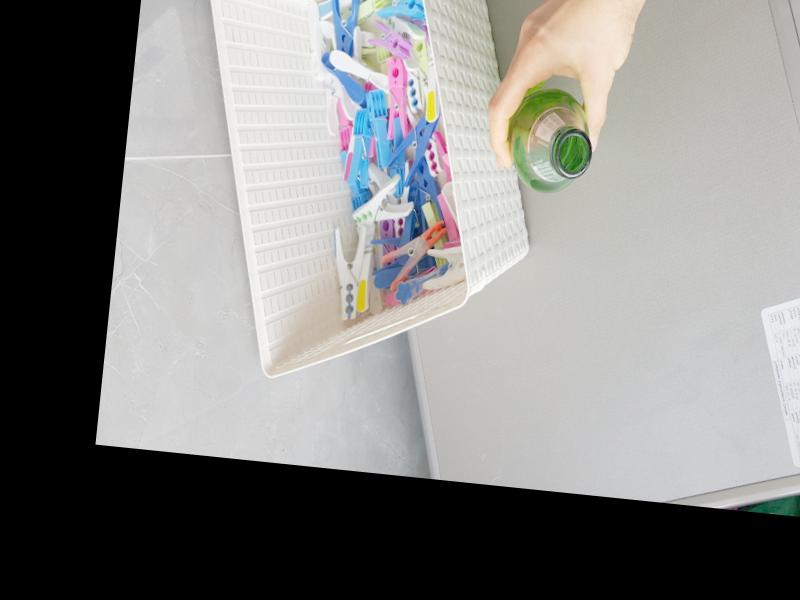Beer: (502, 82, 600, 197)
